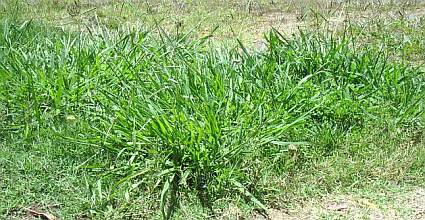crabgrass: (76, 67, 371, 191)
